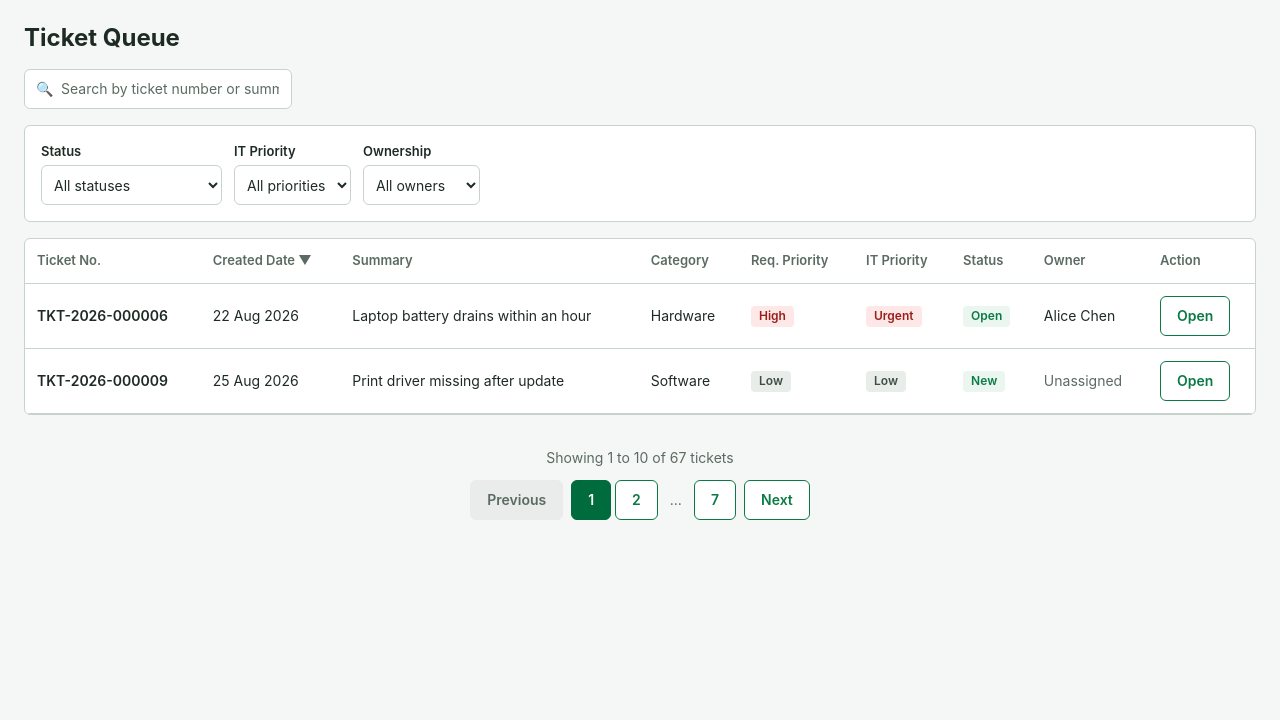
UI-10 — Queue automated accessibility (ui-spec §9) › has no axe violations in the no-results state
The width and height of the screenshot is (1280, 720).
Select "Cancelled" in the dropdown labelled "Status" at (132, 185), box [41,165,222,205]
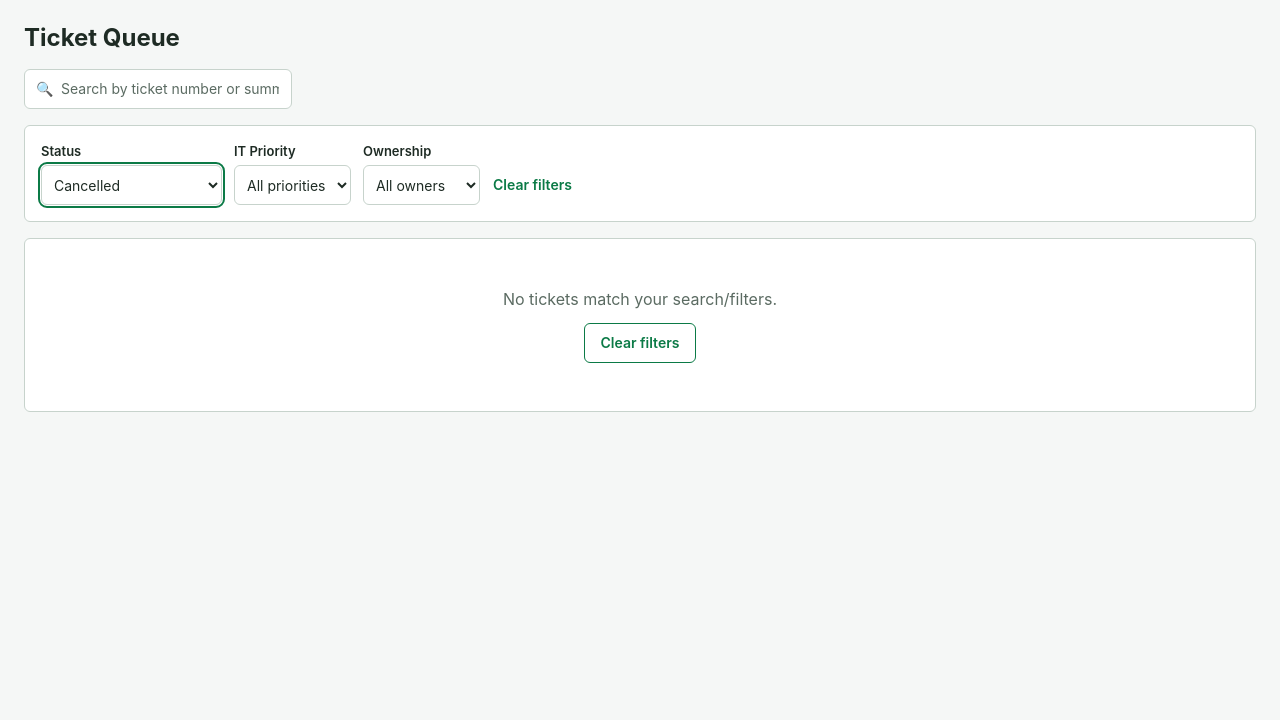
Expected: the element with test id "queue-empty" is shown, [24,238,1256,412]
